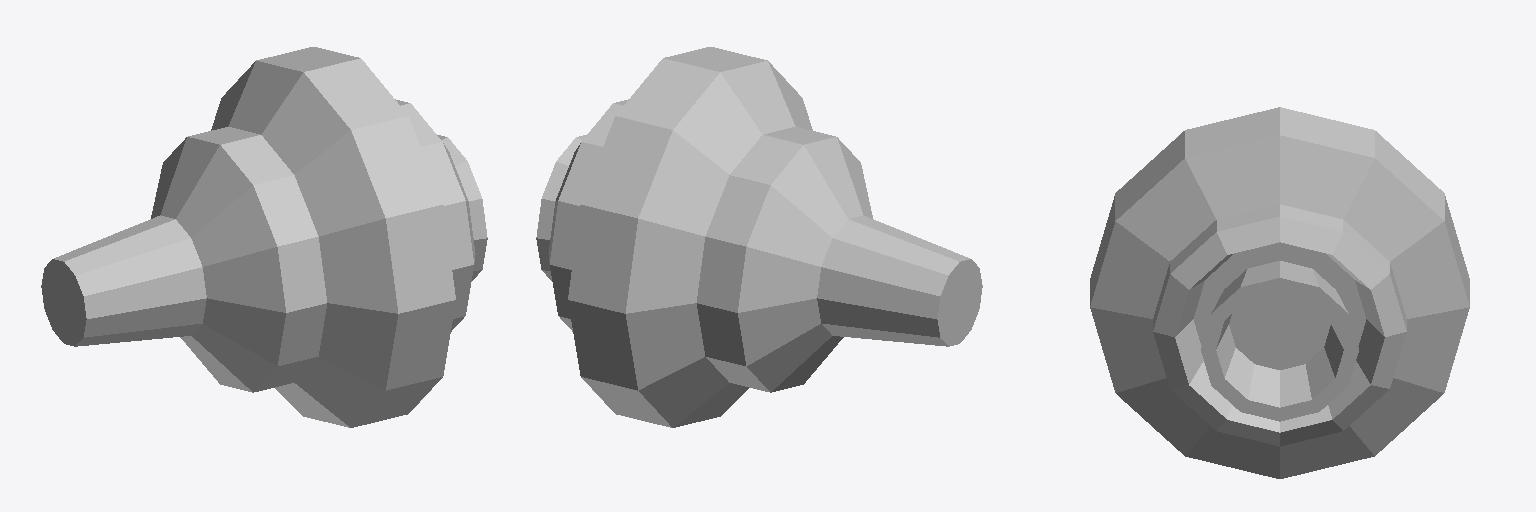
File: SlowEngine.obj
The picture shows the model from 3 angles: view 1: azimuth 30°, elevation 25°; view 2: azimuth 150°, elevation 25°; view 3: azimuth 270°, elevation 25°; orthographic projection.
Visible parts, largest first — view 1: Cylinder.001; view 2: Cylinder.001; view 3: Cylinder.001.
Boxes of the visible parts, <box> form: Cylinder.001: <box>41,47,487,427</box>; Cylinder.001: <box>536,47,982,427</box>; Cylinder.001: <box>1090,107,1469,478</box>.
Size of the model in its own units: 1.25 by 1.07 by 1.07.